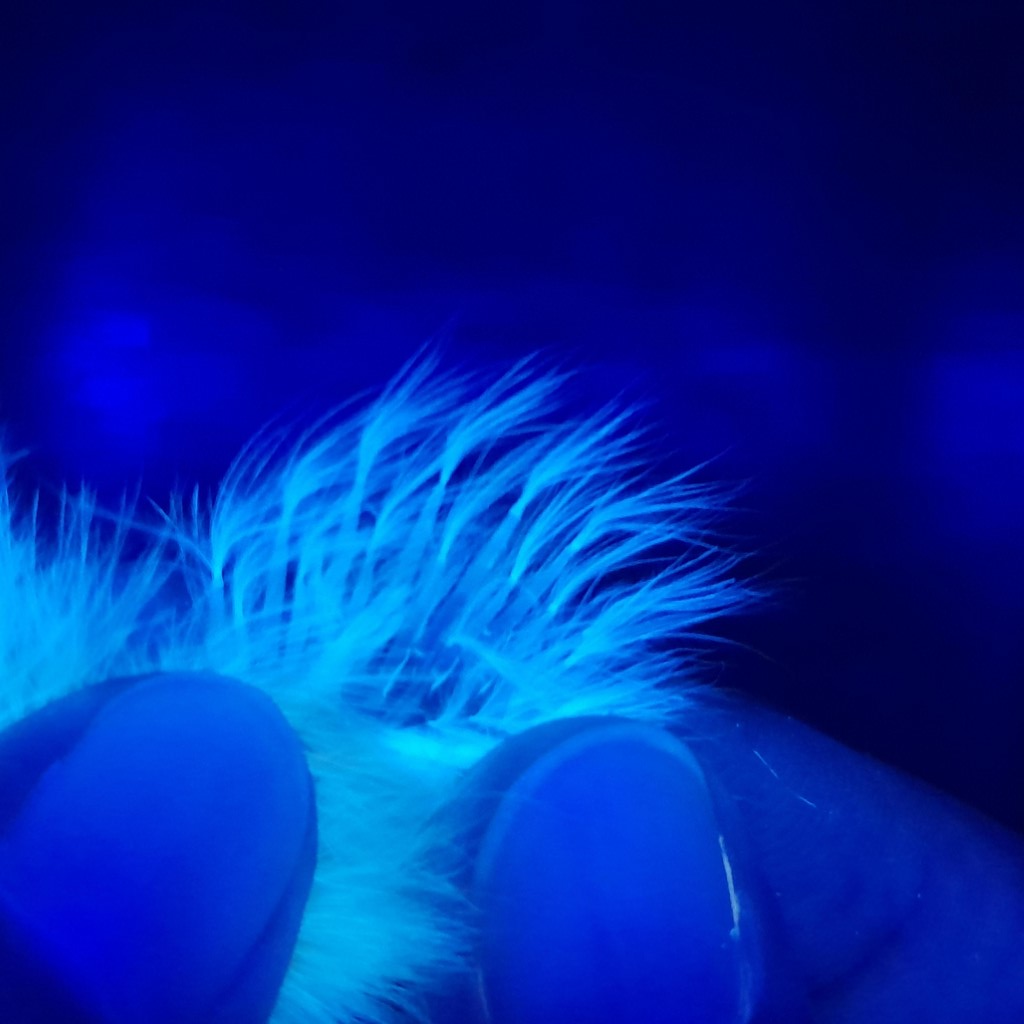female: (297, 452, 605, 725)
